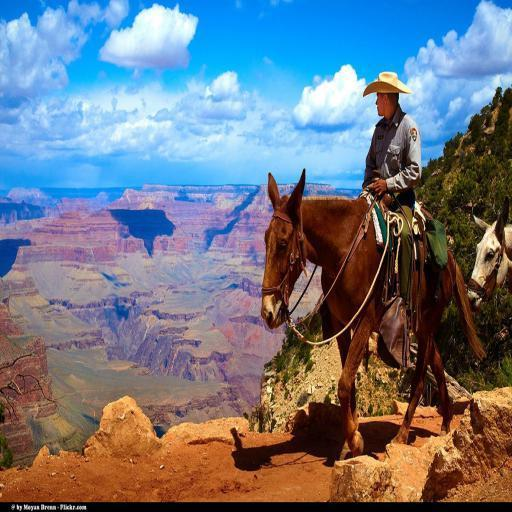horse: (258, 168, 484, 460), (464, 195, 512, 317)
